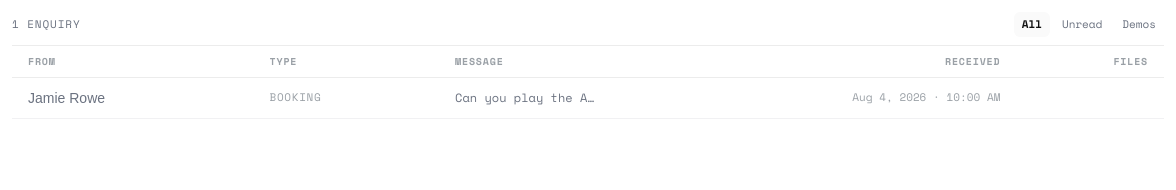
EnquiryTable — the empty case › distinguishes "no enquiries" from "none match this filter"
Click the button "Unread" at [1082, 24], box 1054,12 -> 1110,36
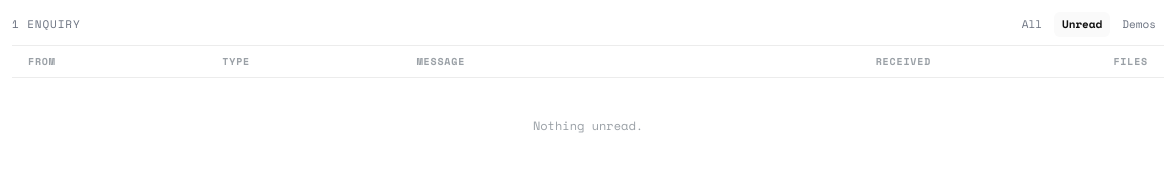
expect the text "Nothing unread." is shown: met, box 12,77 -> 1164,174
